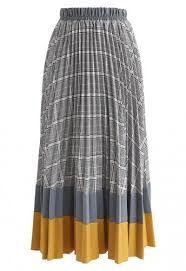C_skirt: (23, 4, 166, 266)
